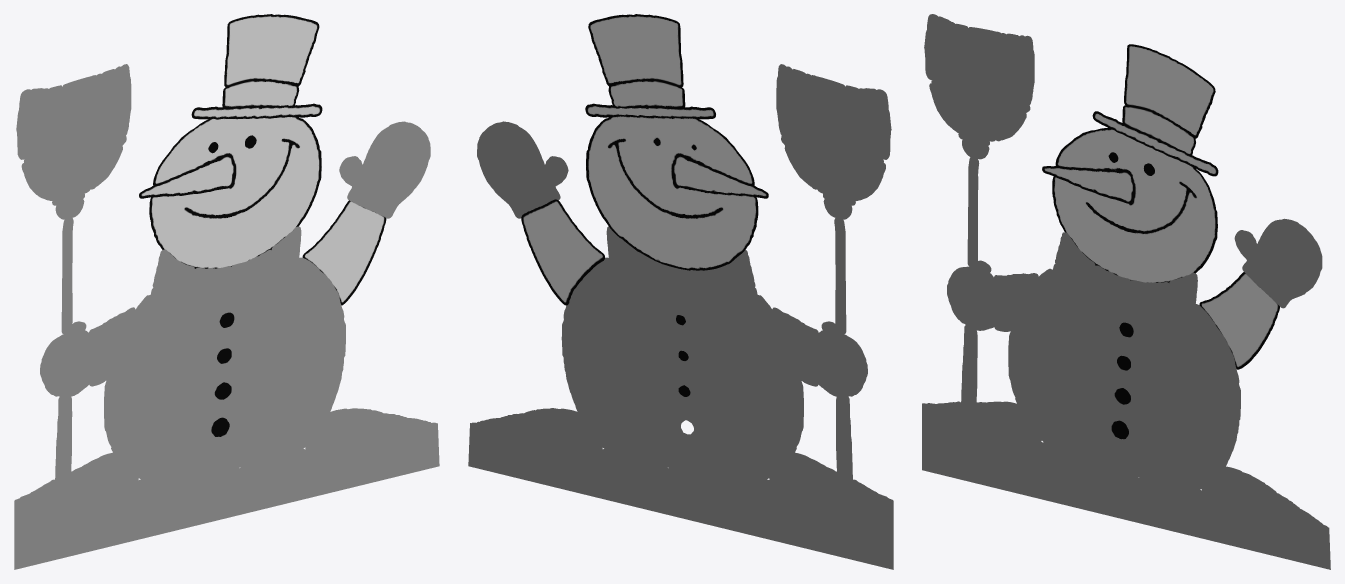
File: IMG_4.fbx
3 views of the same model, side by side, from view 1: azimuth 30°, elevation 25°; view 2: azimuth 150°, elevation 25°; view 3: azimuth 330°, elevation 25° (orthographic). The views are drawn at different scales.
Parts seen in each view (by area): view 1: IMG_10; view 2: IMG_10; view 3: IMG_10.
Part boxes in pixels (bbox=[...]): IMG_10: bbox=[14, 14, 439, 569]; IMG_10: bbox=[468, 14, 893, 569]; IMG_10: bbox=[922, 14, 1330, 569].
Size of the model in its own units: 15.41 by 17.2 by 0.0146.
11 materials, 5 textured.
